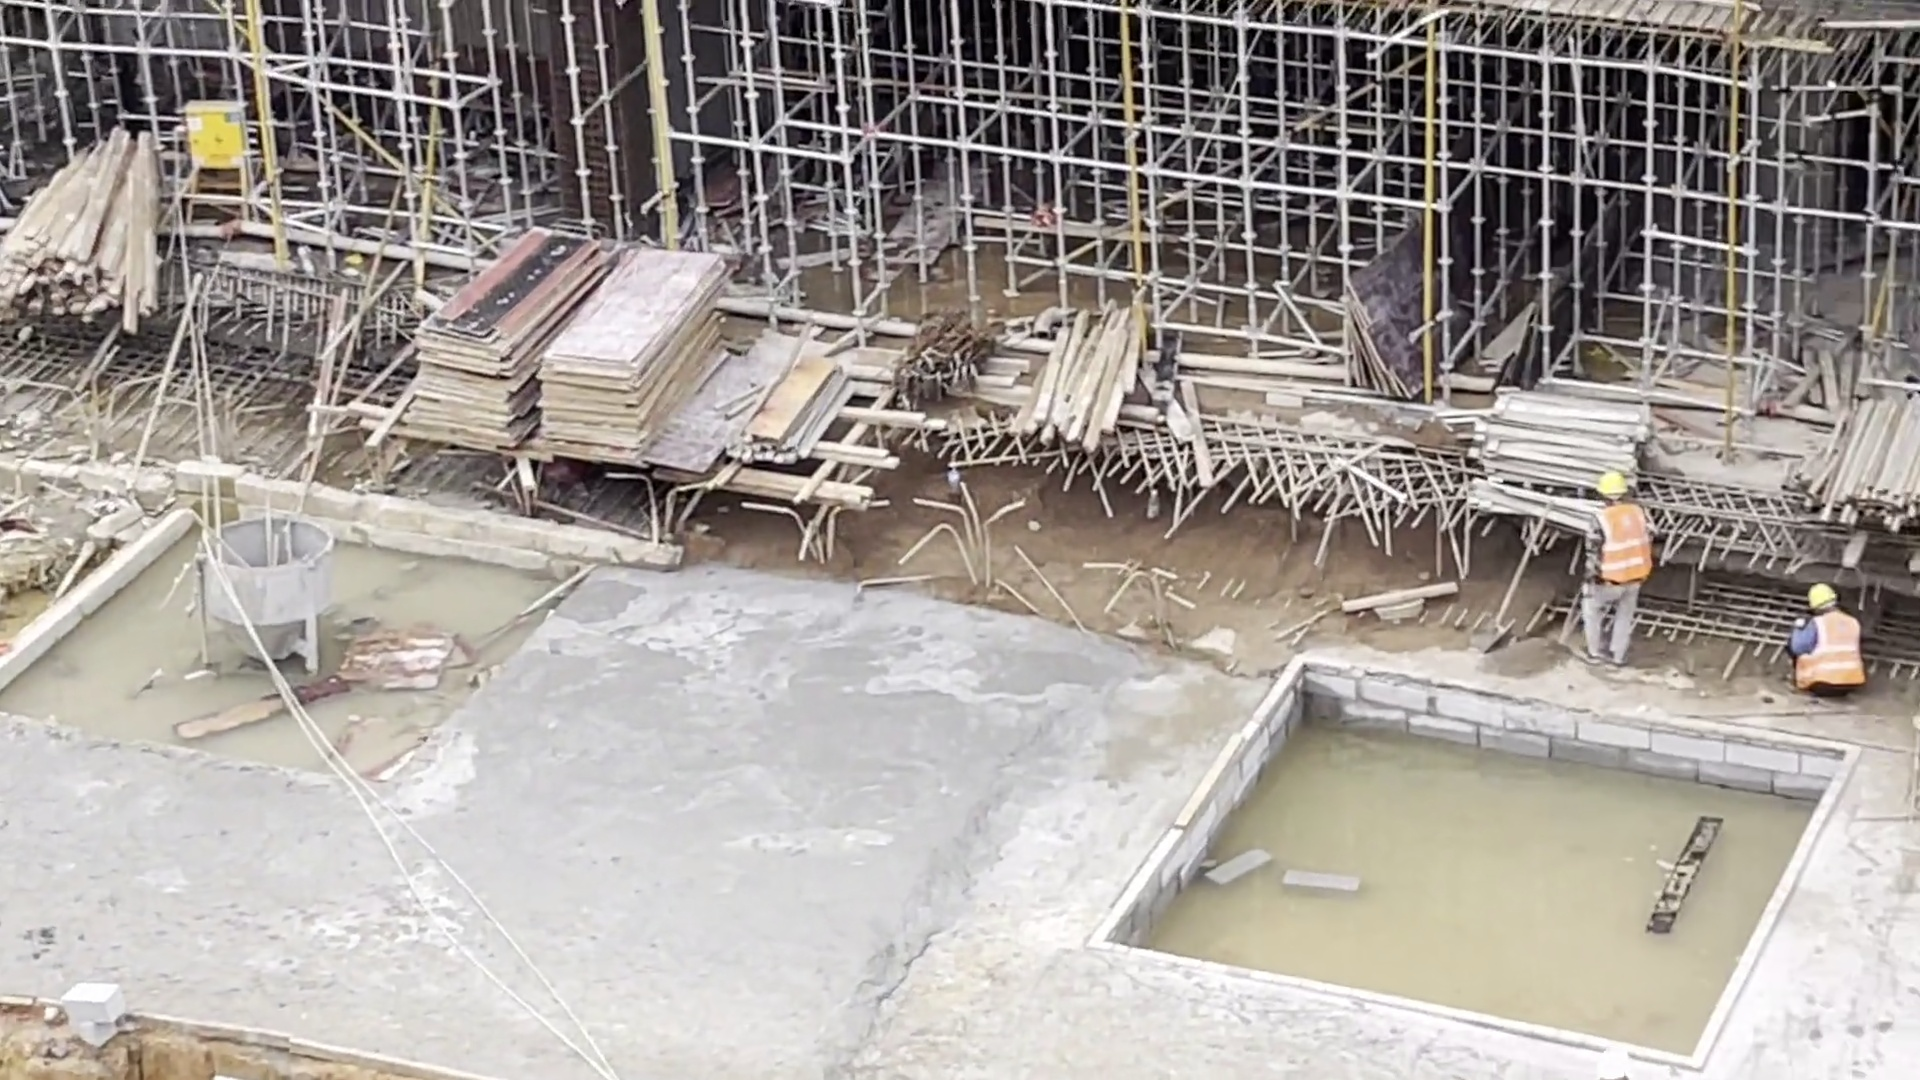board: (398, 225, 613, 443), (542, 239, 724, 470)
ebox: (179, 96, 253, 220)
helmet: (1807, 582, 1839, 611), (1594, 472, 1630, 496)
person: (1571, 466, 1662, 668), (1788, 577, 1864, 701)
rebar: (890, 302, 994, 410)
vest: (1793, 610, 1867, 691), (1595, 502, 1653, 583)
wood: (1, 123, 162, 337), (1469, 392, 1655, 528), (1017, 306, 1146, 454)
